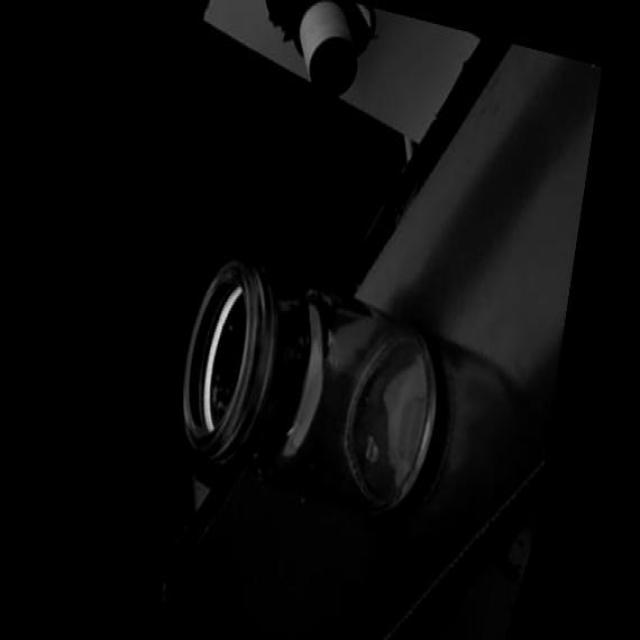defect: (284, 408, 301, 441)
glass: (147, 208, 472, 574)
